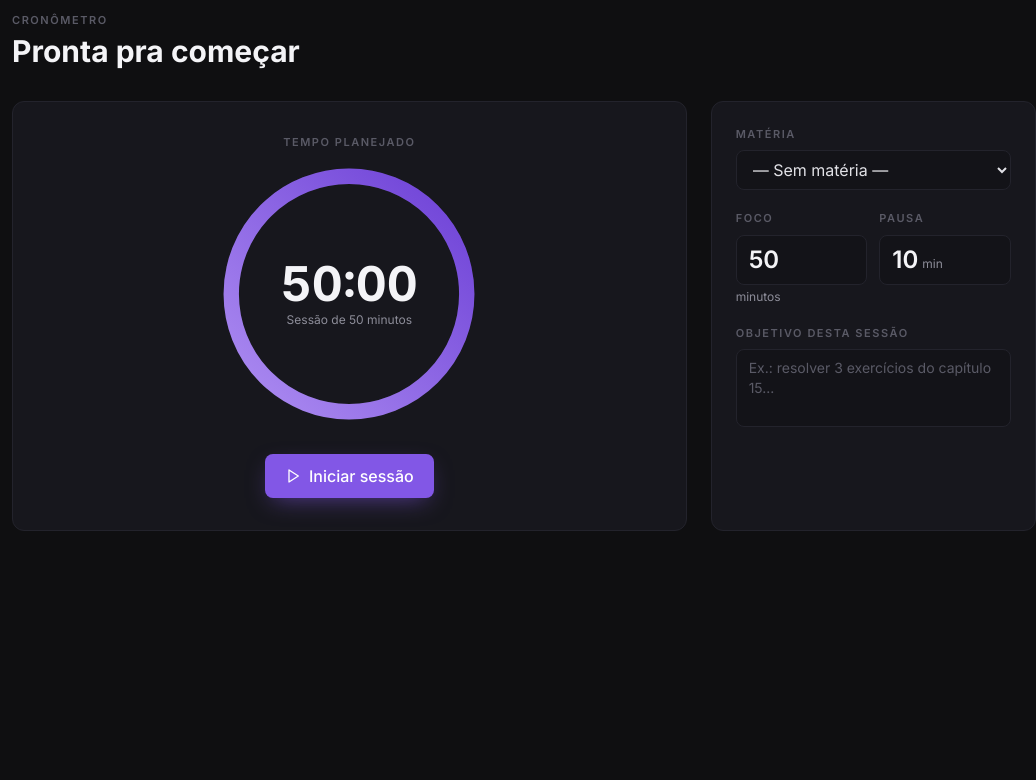
Test case: TimerPage › inicia uma sessão e troca para o estado 'running' com controles
Click the button "Iniciar sessão" at (349, 476), box [265, 454, 434, 498]
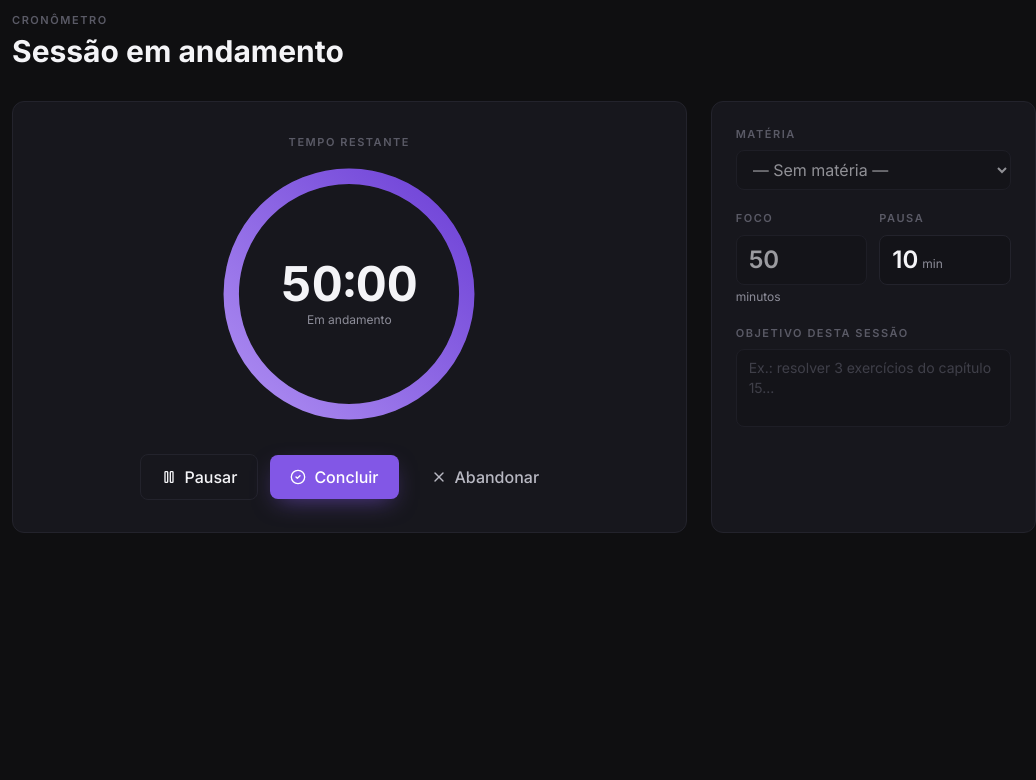
Expected: the button "Pausar" is shown, [140, 454, 258, 500]
Expected: the button "Concluir" is shown, [270, 455, 398, 499]
Expected: the button "Abandonar" is shown, [410, 455, 559, 499]
